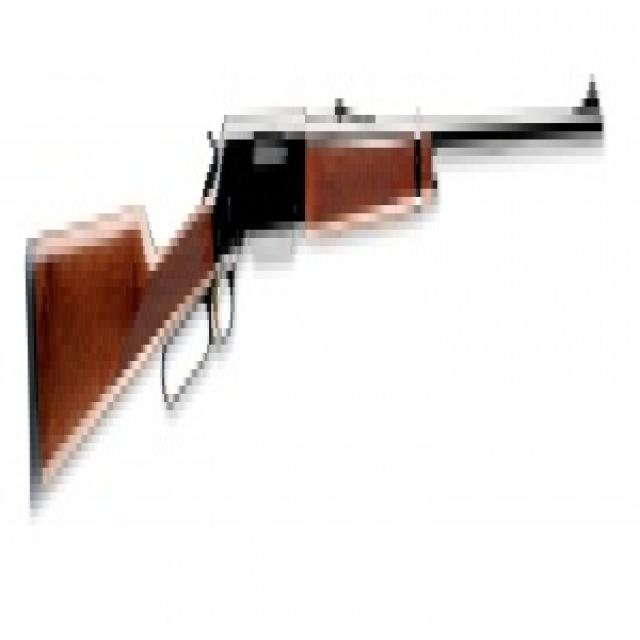rifle: (21, 48, 612, 527)
